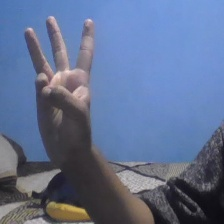W: (21, 11, 102, 166)
